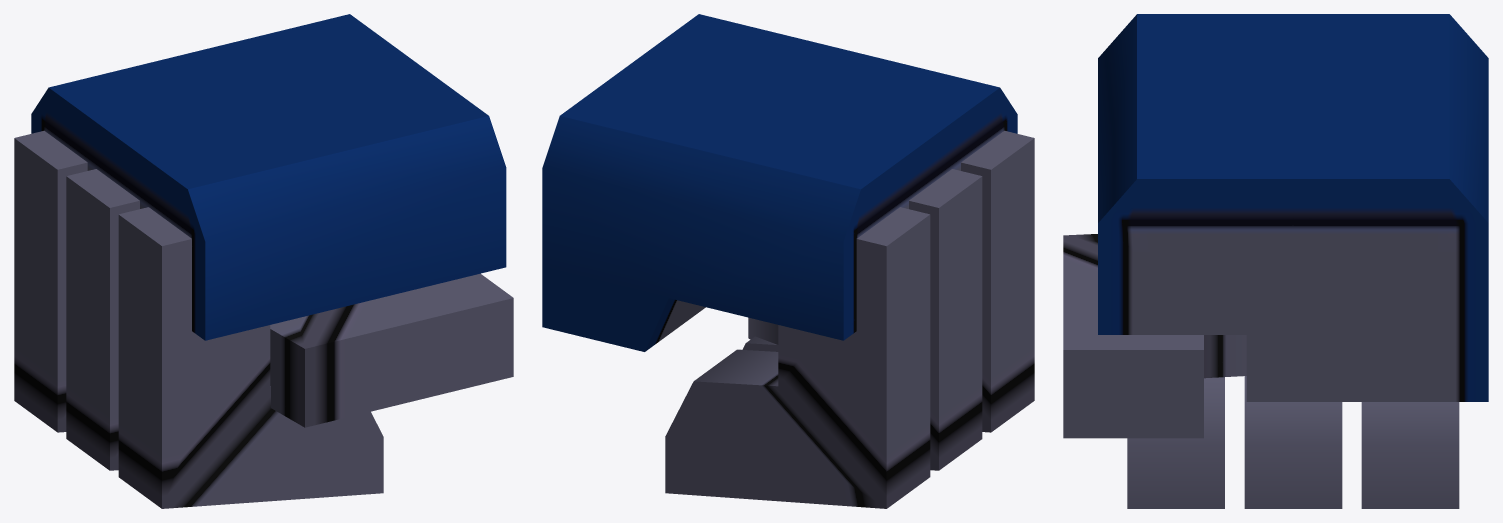
3 renders of one model, left to right at view 1: azimuth 30°, elevation 25°; view 2: azimuth 150°, elevation 25°; view 3: azimuth 270°, elevation 25°, orthographic. The views are drawn at different scales.
Parts seen in each view (by area): view 1: Joint_0_Object_0; view 2: Joint_0_Object_0; view 3: Joint_0_Object_0.
Part boxes in pixels (x1=…): Joint_0_Object_0: x1=14, y1=14, x2=513, y2=508; Joint_0_Object_0: x1=542, y1=14, x2=1034, y2=508; Joint_0_Object_0: x1=1063, y1=14, x2=1488, y2=508.
Size of the model in its own units: 32.67 by 32.73 by 32.35.
Materials: 1 (1 with a texture image).
